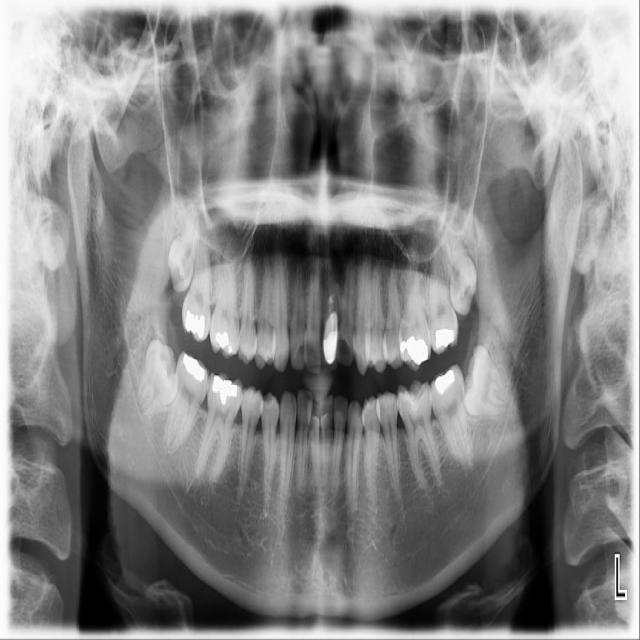Filling: (399, 337, 429, 366), (212, 377, 237, 405), (183, 352, 204, 383), (185, 311, 206, 339), (436, 369, 454, 394), (323, 330, 336, 364), (436, 328, 455, 348), (214, 332, 229, 348), (228, 346, 231, 353)
impacted tooth: (463, 346, 520, 413), (442, 218, 477, 316), (135, 336, 178, 412), (169, 199, 202, 291)
